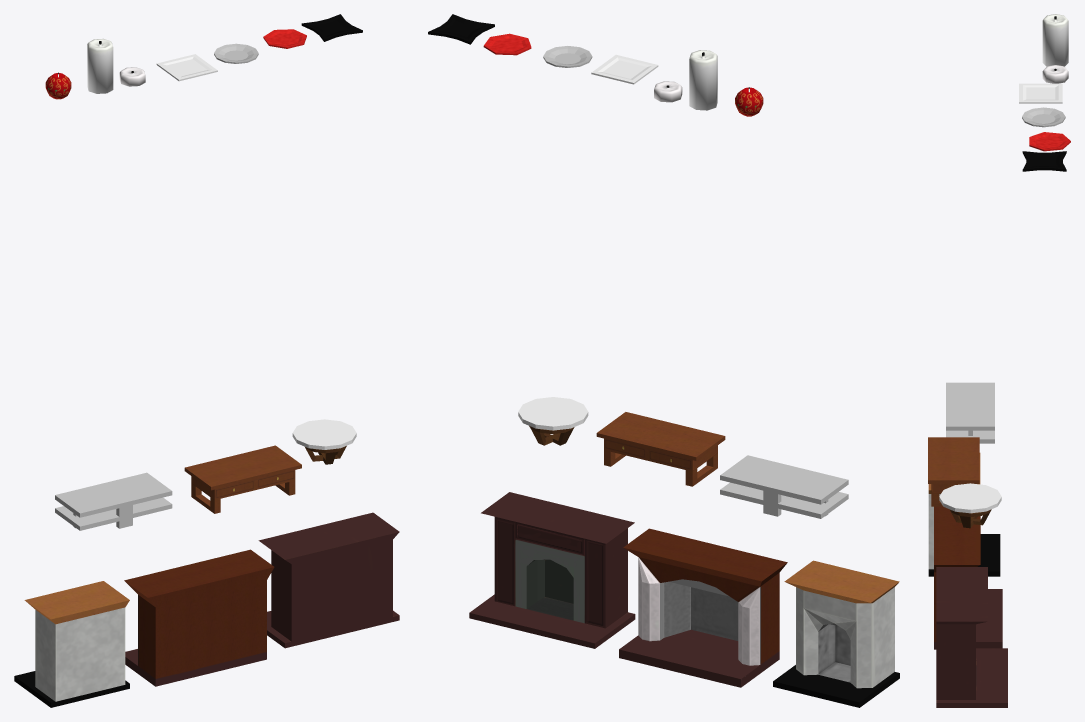
Rendered from bundle extras.fbx.
3 views of the same model, side by side, from view 1: azimuth 30°, elevation 25°; view 2: azimuth 150°, elevation 25°; view 3: azimuth 270°, elevation 25° (orthographic). The views are drawn at different scales.
Parts seen in each view (by area): view 1: Fireplace 2, Fireplace 1, Fireplace 3, Table 2, Table 1, Table 3, Big Candle, Candle Plate 1, Candle Plate 4, Candle Plate 2, Candle Plate 3; view 2: Fireplace 2, Fireplace 1, Fireplace 3, Table 1, Table 2, Table 3, Big Candle, Candle Plate 1, Candle Plate 4, Candle Plate 2, Candle Plate 3; view 3: Fireplace 1, Fireplace 2, Table 1, Table 2, Table 3, Fireplace 3, Big Candle, Candle Plate 1, Candle Plate 4, Candle Plate 2, Candle Plate 3, Small Candle.
Boxes of the visible parts, x1=… form: Fireplace 2: x1=124, y1=549, x2=274, y2=686; Fireplace 1: x1=258, y1=512, x2=399, y2=648; Fireplace 3: x1=14, y1=581, x2=129, y2=707; Table 2: x1=184, y1=445, x2=301, y2=513; Table 1: x1=55, y1=472, x2=172, y2=530; Table 3: x1=292, y1=419, x2=356, y2=464; Big Candle: x1=87, y1=38, x2=113, y2=93; Candle Plate 1: x1=156, y1=54, x2=217, y2=81; Candle Plate 4: x1=301, y1=14, x2=362, y2=41; Candle Plate 2: x1=214, y1=43, x2=258, y2=63; Candle Plate 3: x1=263, y1=29, x2=306, y2=48; Fireplace 2: x1=619, y1=528, x2=787, y2=687; Fireplace 1: x1=469, y1=492, x2=635, y2=648; Fireplace 3: x1=773, y1=560, x2=899, y2=707; Table 1: x1=720, y1=455, x2=848, y2=518; Table 2: x1=596, y1=412, x2=725, y2=486; Table 3: x1=518, y1=397, x2=588, y2=445; Big Candle: x1=689, y1=50, x2=717, y2=110; Candle Plate 1: x1=591, y1=54, x2=658, y2=84; Candle Plate 4: x1=428, y1=14, x2=494, y2=44; Candle Plate 2: x1=543, y1=46, x2=592, y2=67; Candle Plate 3: x1=483, y1=33, x2=531, y2=55; Fireplace 1: x1=936, y1=567, x2=1007, y2=707; Fireplace 2: x1=934, y1=506, x2=1002, y2=649; Table 1: x1=946, y1=382, x2=994, y2=443; Table 2: x1=928, y1=437, x2=979, y2=506; Table 3: x1=939, y1=483, x2=1001, y2=528; Fireplace 3: x1=928, y1=453, x2=1000, y2=576; Big Candle: x1=1042, y1=14, x2=1068, y2=66; Candle Plate 1: x1=1019, y1=83, x2=1062, y2=103; Candle Plate 4: x1=1022, y1=151, x2=1066, y2=171; Candle Plate 2: x1=1022, y1=107, x2=1065, y2=127; Candle Plate 3: x1=1029, y1=132, x2=1070, y2=151; Small Candle: x1=1042, y1=65, x2=1068, y2=83.
Size of the model in its own units: 12.98 by 20.59 by 4.57.
